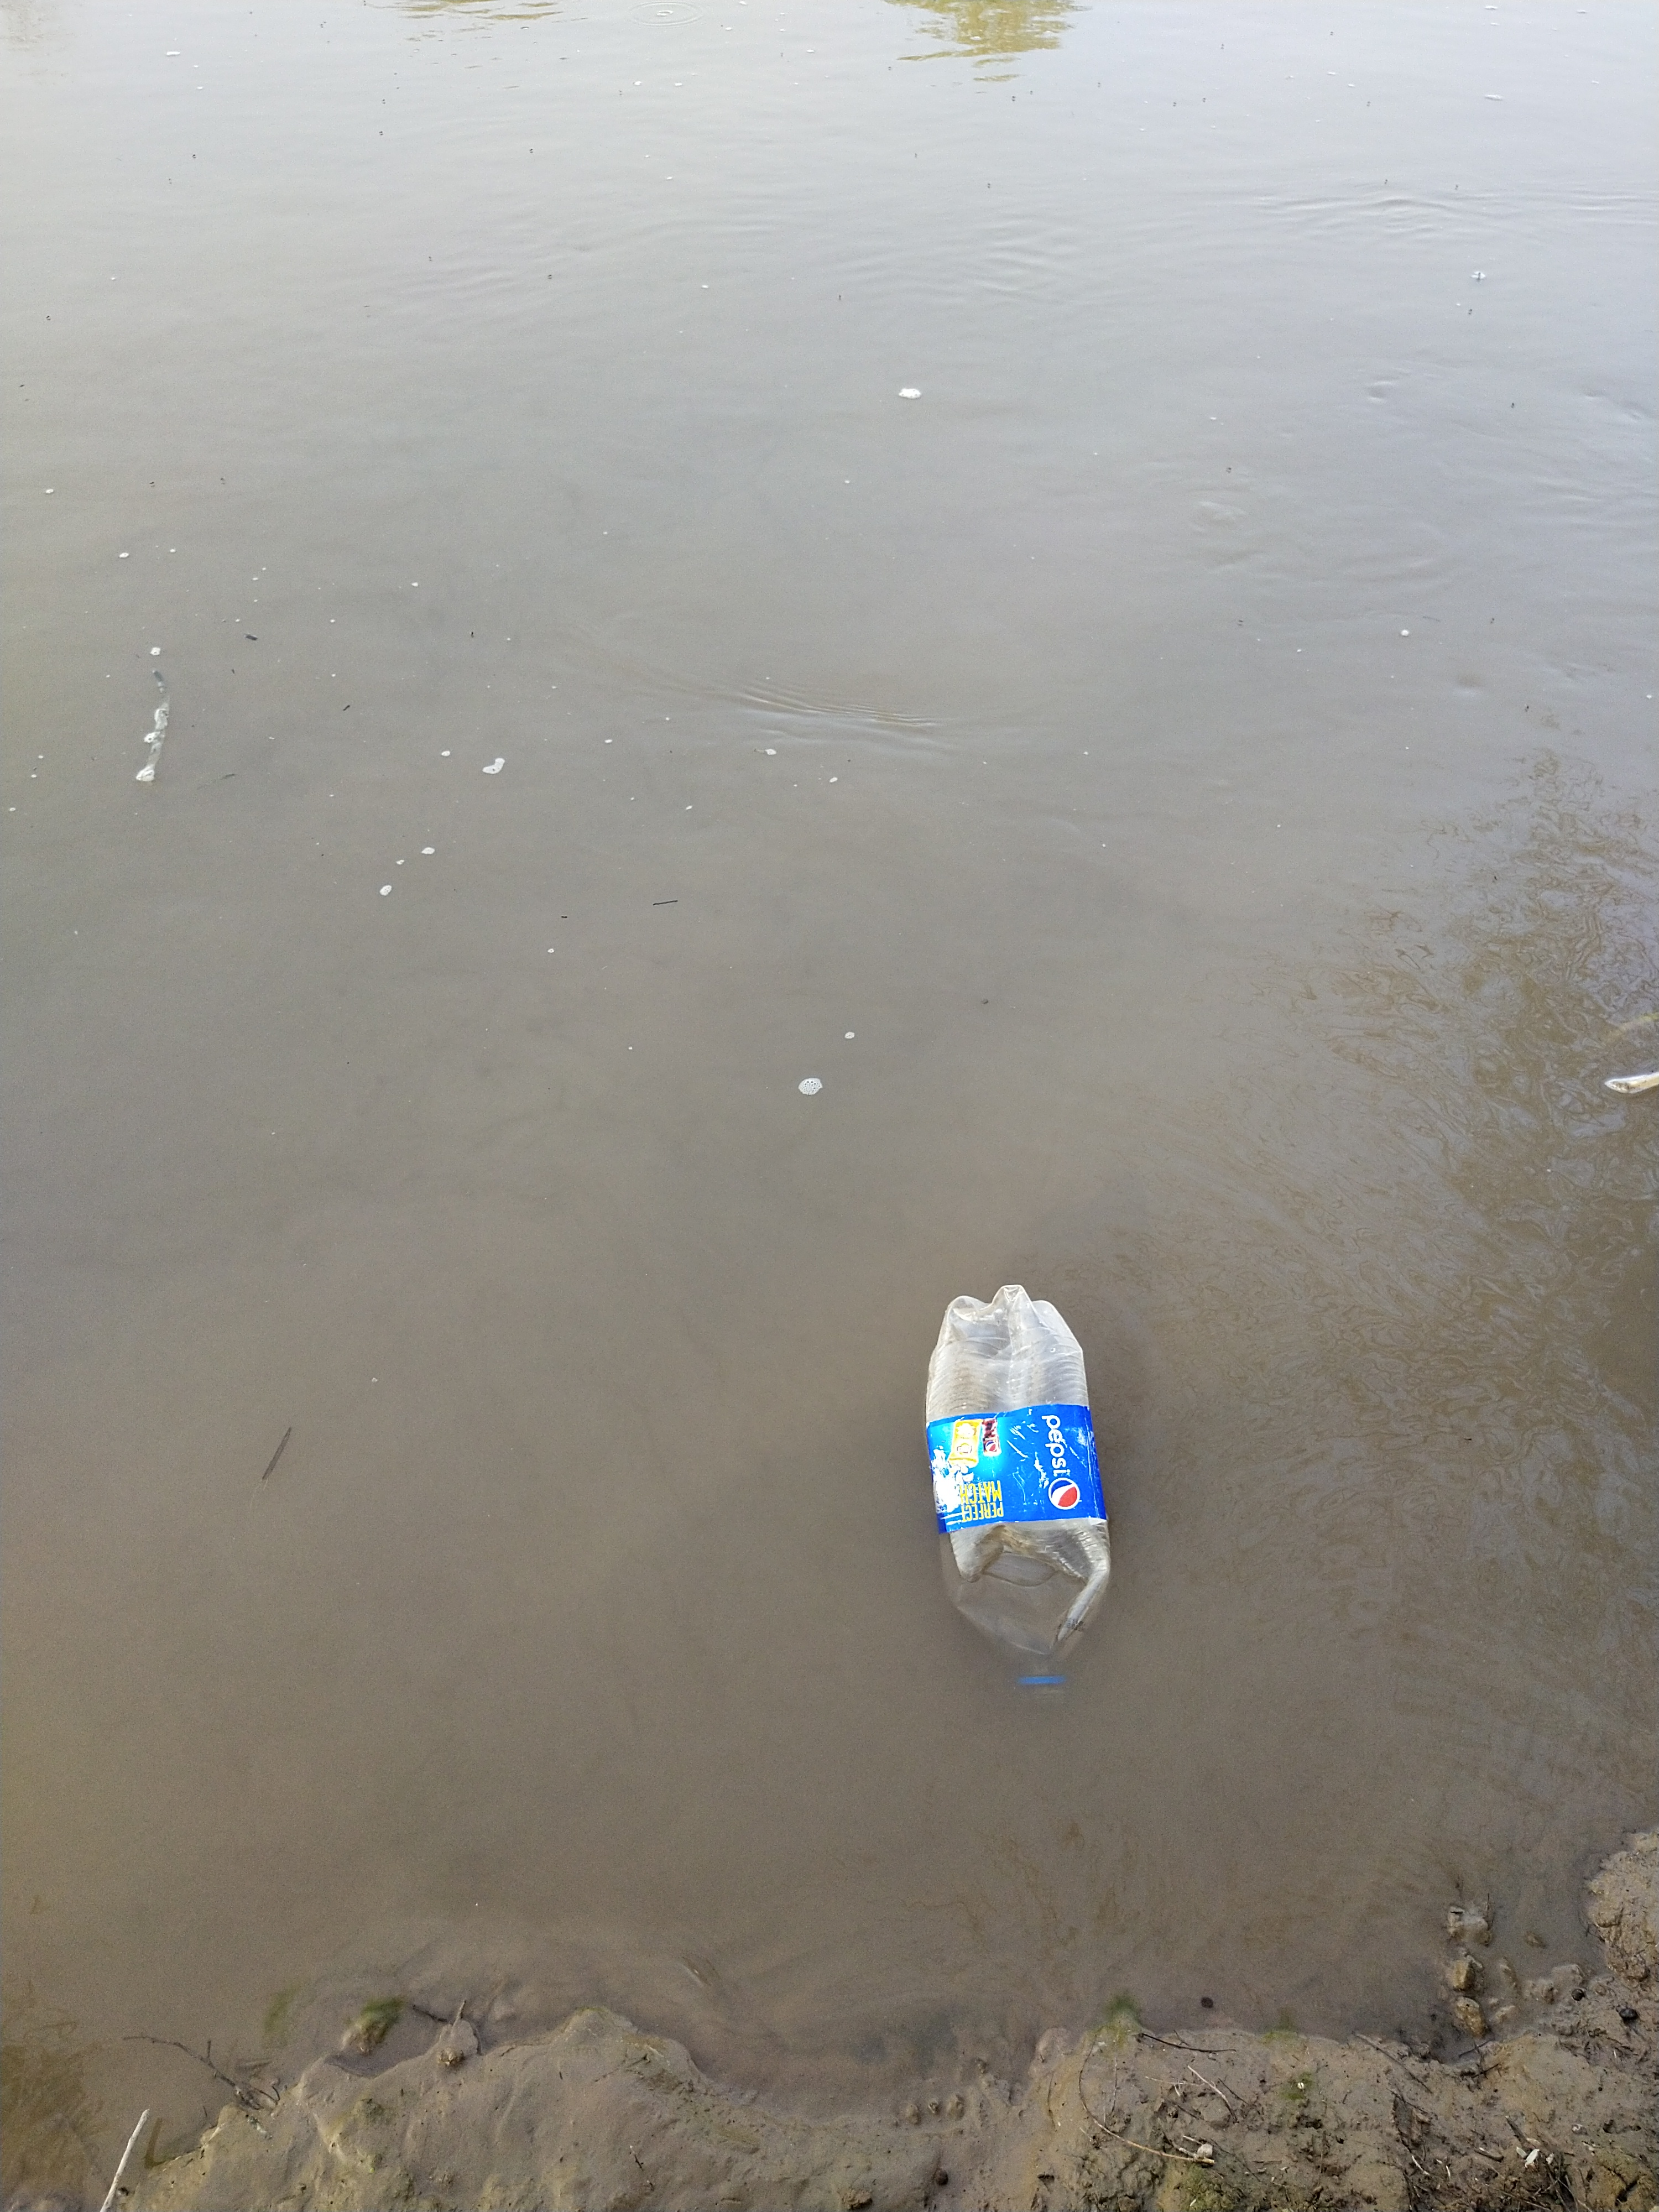Plastic Bottle: (924, 1284, 1114, 1700)
